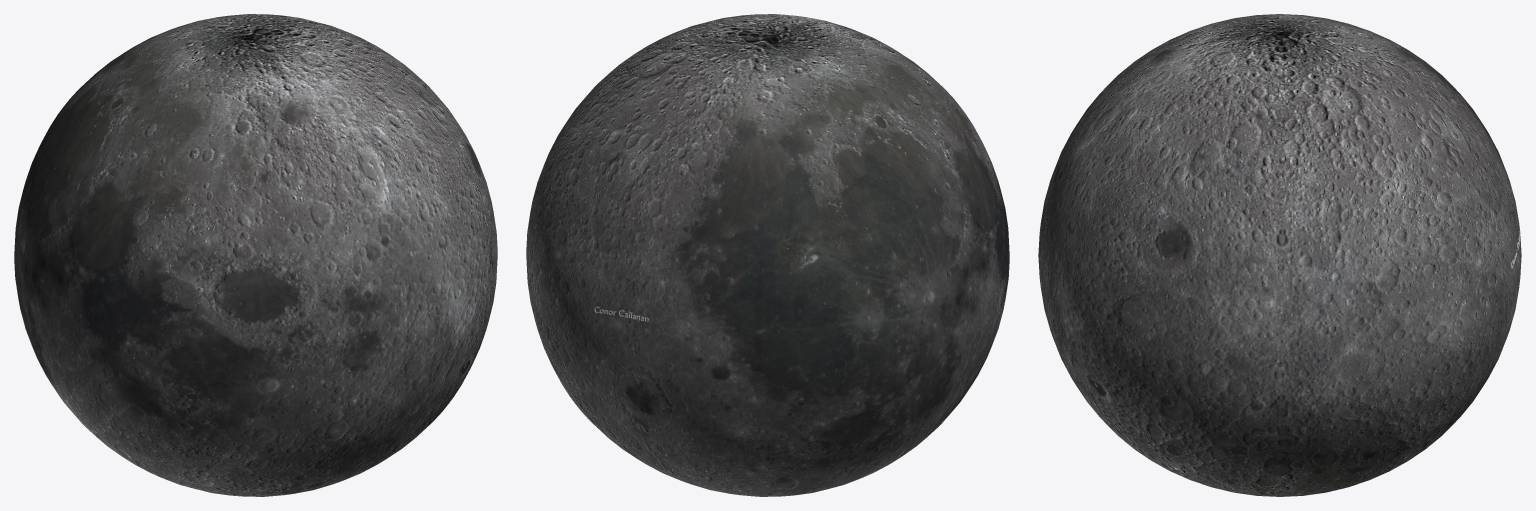
The model's file is moon.glb.
The picture shows the model from 3 angles, left to right: view 1: azimuth 30°, elevation 25°; view 2: azimuth 150°, elevation 25°; view 3: azimuth 270°, elevation 25°; orthographic projection.
Visible parts, largest first — view 1: Cube.008; view 2: Cube.008; view 3: Cube.008.
Boxes of the visible parts, x1,y1,x2,y2 form: Cube.008: [14, 14, 497, 496]; Cube.008: [526, 14, 1009, 496]; Cube.008: [1038, 14, 1521, 496].
Size of the model in its own units: 109 by 109 by 109.
Materials: 1 (1 with a texture image).
